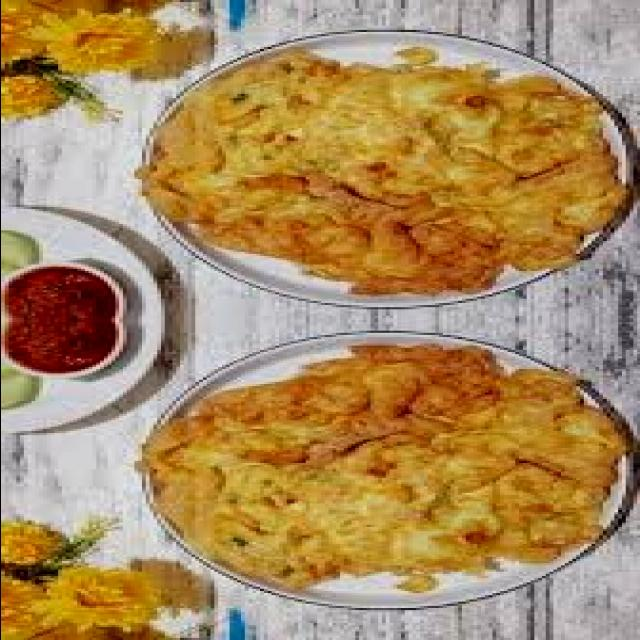telur dadar: (137, 49, 640, 299), (141, 346, 632, 589)
